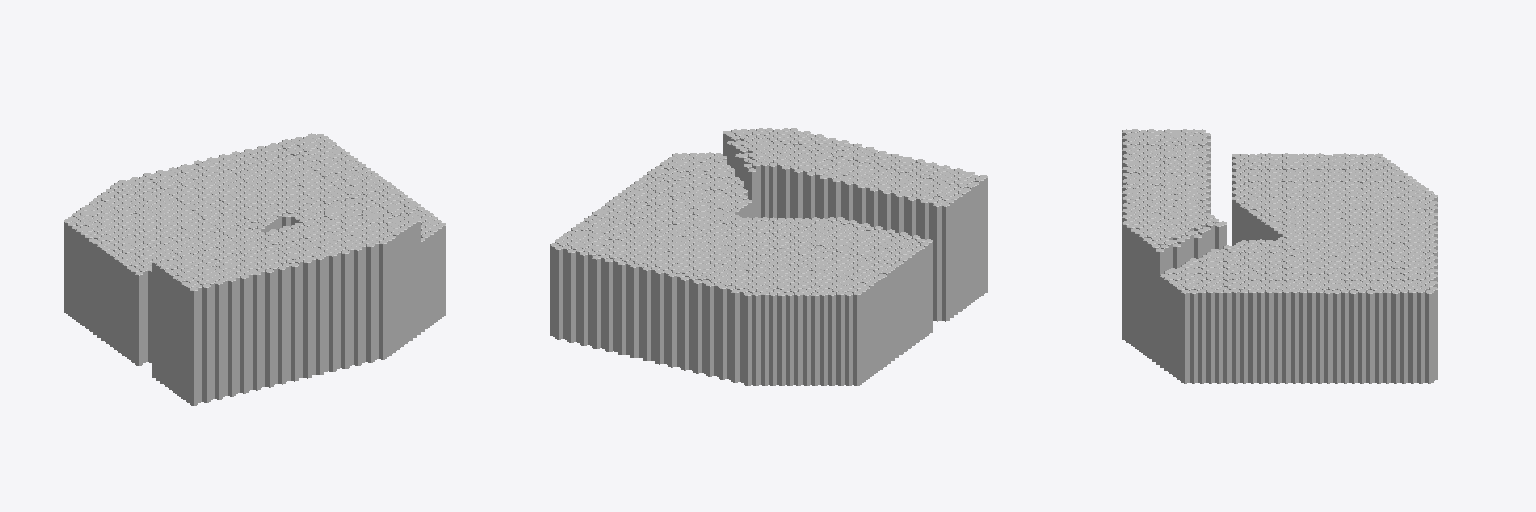
Rendered from Level1_Facebook_BaseMesh.obj.
3 renders of one model, left to right at view 1: azimuth 30°, elevation 25°; view 2: azimuth 150°, elevation 25°; view 3: azimuth 270°, elevation 25°, orthographic.
Visible parts, largest first — view 1: FbMap1; view 2: FbMap1; view 3: FbMap1.
Boxes of the visible parts, x1,y1,x2,y2 form: FbMap1: [64, 133, 445, 405]; FbMap1: [550, 128, 987, 385]; FbMap1: [1122, 129, 1437, 383].
Size of the model in its own units: 13.6 by 5.28 by 12.99.